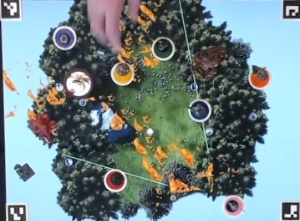blue: (184, 95, 212, 122)
green: (149, 35, 175, 62)
orange: (248, 64, 271, 92)
pink: (219, 193, 245, 217)
red: (100, 167, 126, 192)
violet: (51, 24, 80, 52)
yellow: (109, 59, 134, 86)
